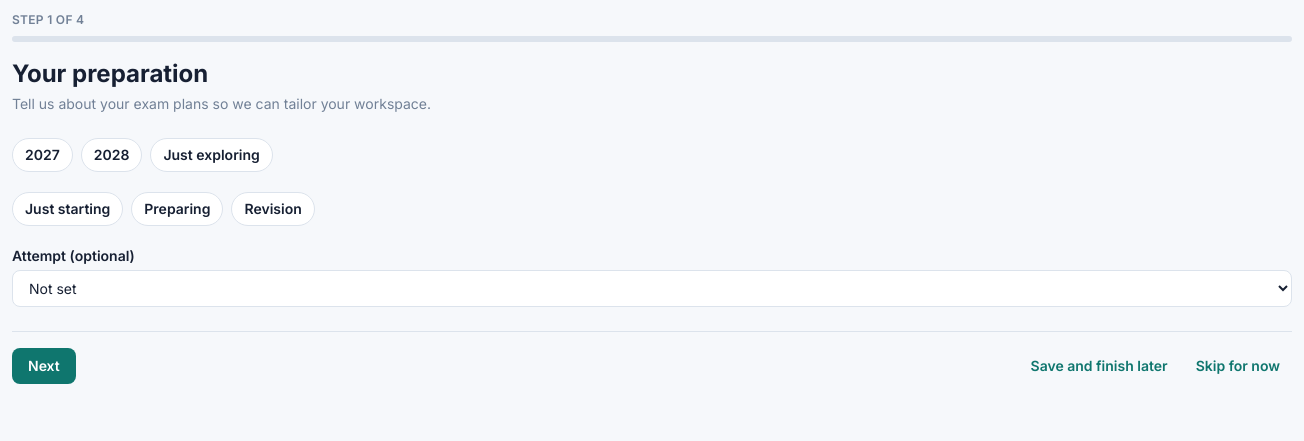
Wizard validation accessibility › announces missing answers, links them to their groups and focuses the first invalid one
Check: the heading "Your preparation" is shown, box [12,59,208,88]
Click the button "Next".
click(44, 366)  # box [12,348,76,384]
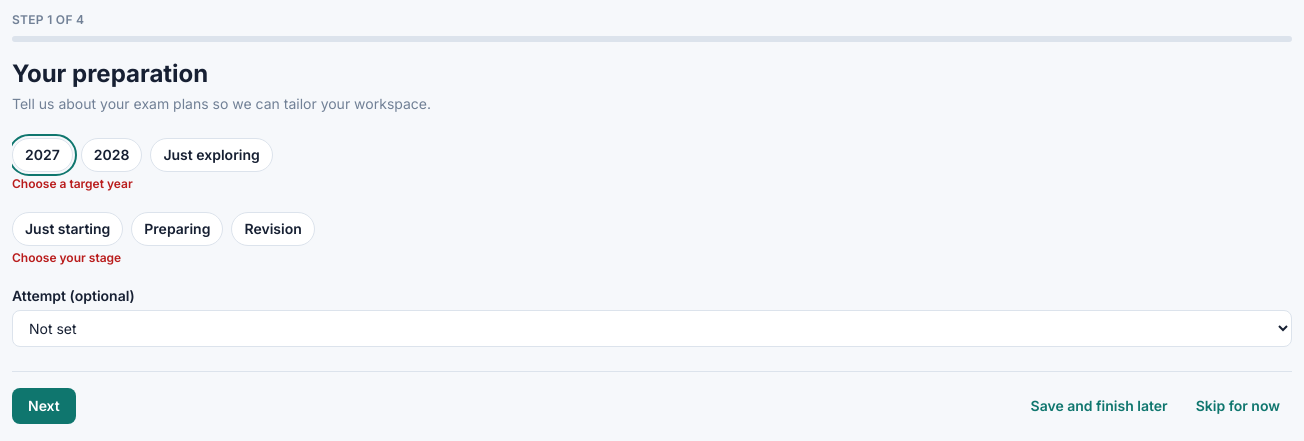
Check: the messages read "Choose a target year", "Choose your stage", in this order, box [12,176,133,191]; [12,250,121,265]
